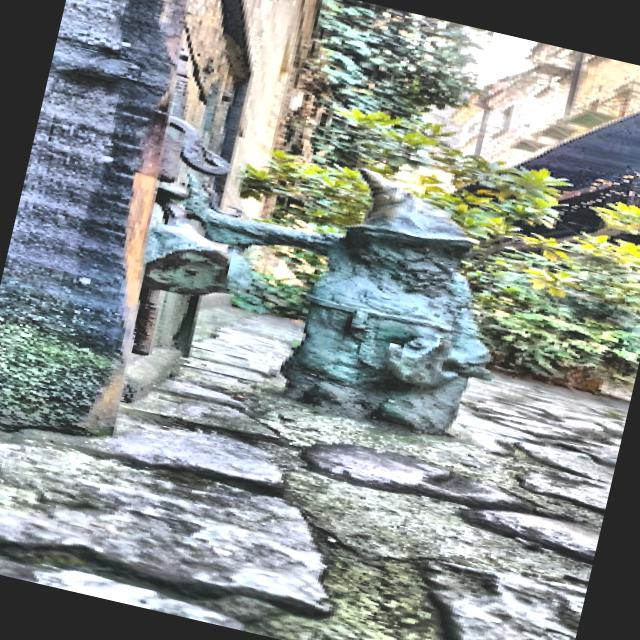Rzeznik: (185, 170, 490, 433)
